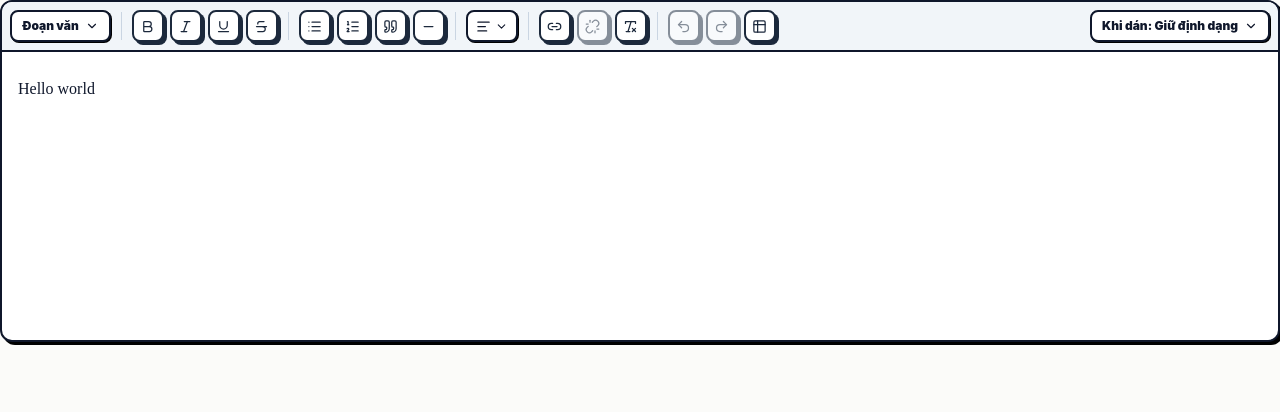
it: ReadingRichTextEditor › inserts a table and exposes visual table controls
Step 1. Click the button named "Chèn bảng" → click(760, 26), box left=744, top=10, right=776, bottom=42
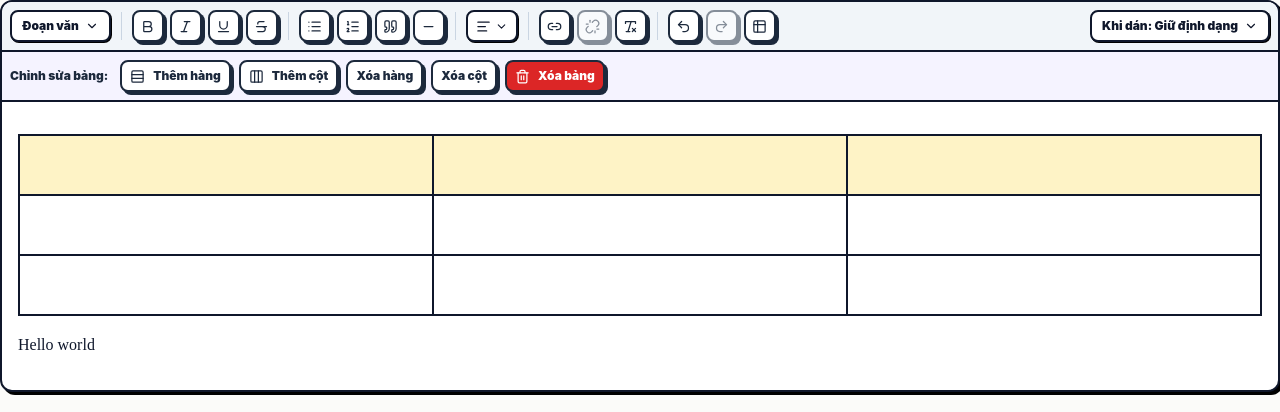
Expected: the table is shown, left=18, top=134, right=1262, bottom=316
Expected: the button with aria-label "Thêm hàng bên dưới" is shown, left=120, top=60, right=231, bottom=92
Expected: the button with aria-label "Thêm cột bên phải" is shown, left=239, top=60, right=338, bottom=92
